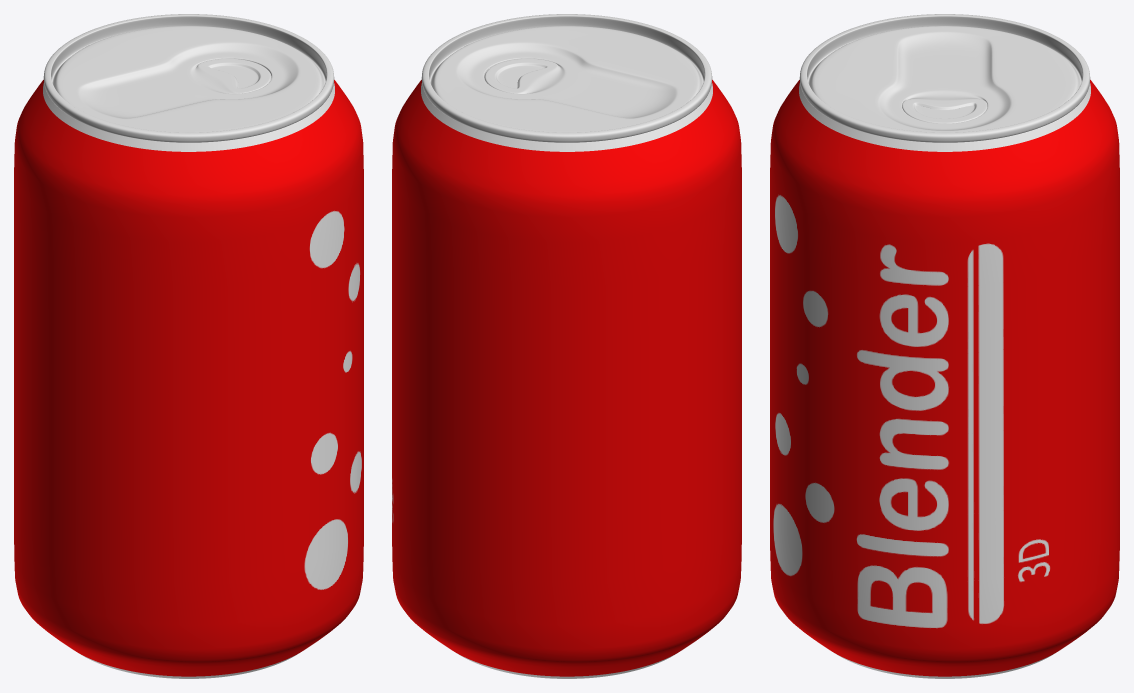
File: SodaCan.fbx
3 renders of one model, left to right at view 1: azimuth 30°, elevation 25°; view 2: azimuth 150°, elevation 25°; view 3: azimuth 270°, elevation 25°, orthographic.
Parts seen in each view (by area): view 1: Can; view 2: Can; view 3: Can.
Part boxes in pixels (x1=…): Can: x1=14, y1=14, x2=363, y2=678; Can: x1=392, y1=14, x2=741, y2=678; Can: x1=770, y1=14, x2=1119, y2=678.
Size of the model in its own units: 585 by 1015 by 585.
